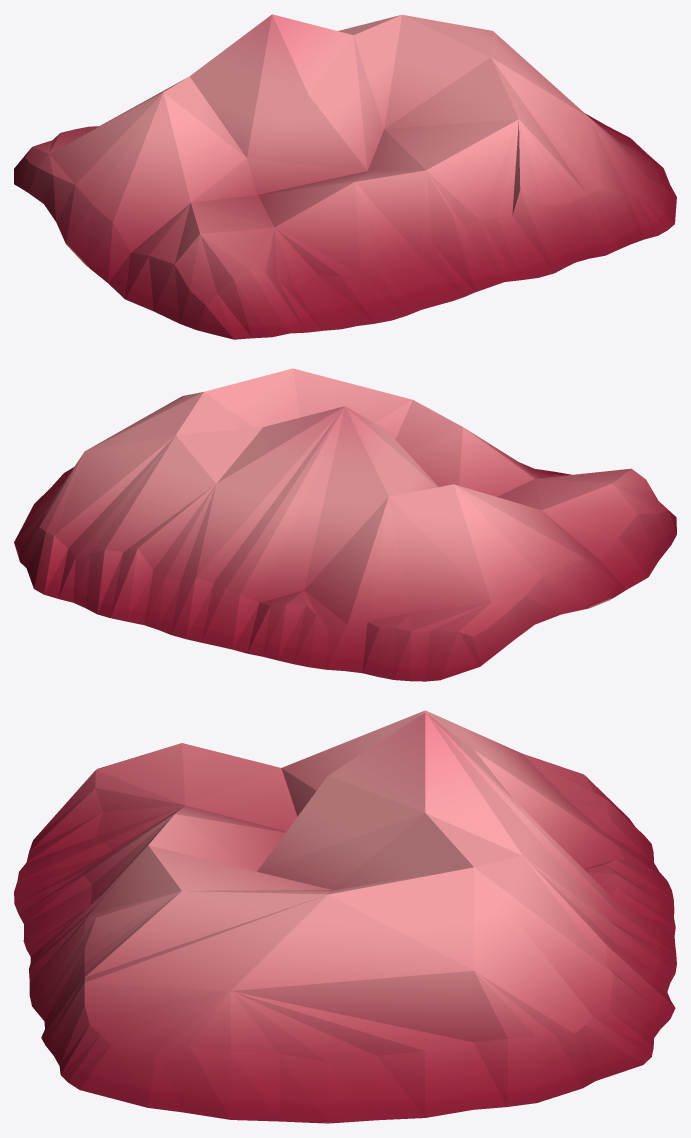
File: Sunset_Mountain_005.FBX
3 views of the same model, one above another, from view 1: azimuth 30°, elevation 25°; view 2: azimuth 150°, elevation 25°; view 3: azimuth 270°, elevation 25° (orthographic). The views are drawn at different scales.
Visible parts, largest first — view 1: Sunset_Mountain_005; view 2: Sunset_Mountain_005; view 3: Sunset_Mountain_005.
Boxes of the visible parts, x1,y1,x2,y2 form: Sunset_Mountain_005: (14, 14, 676, 339); Sunset_Mountain_005: (14, 368, 676, 681); Sunset_Mountain_005: (14, 710, 676, 1123).
Size of the model in its own units: 1471 by 453 by 1240.
1 material, 1 textured.
